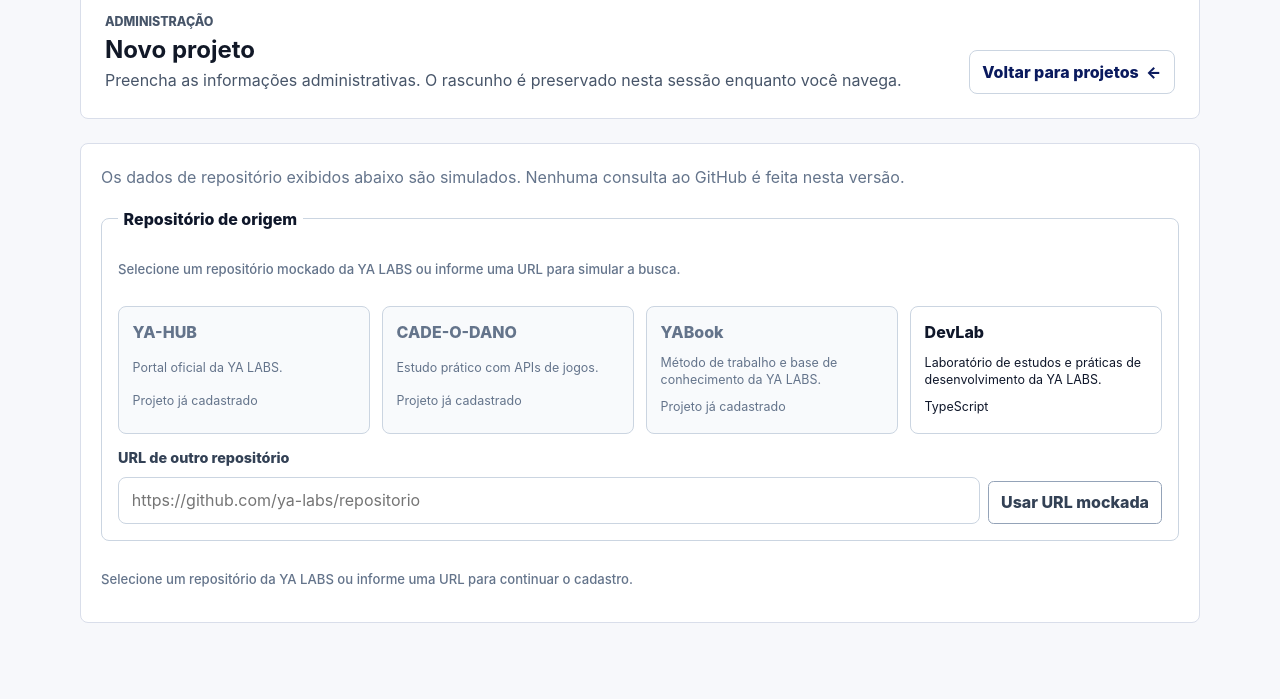
it: App › mantém rascunho do projeto ao voltar para a listagem sem salvar
Expected: the heading "Novo projeto" is shown, [105,35,255,64]
Click the button "DevLab": (1036, 370) [910,306,1162,434]
(page scrolled)
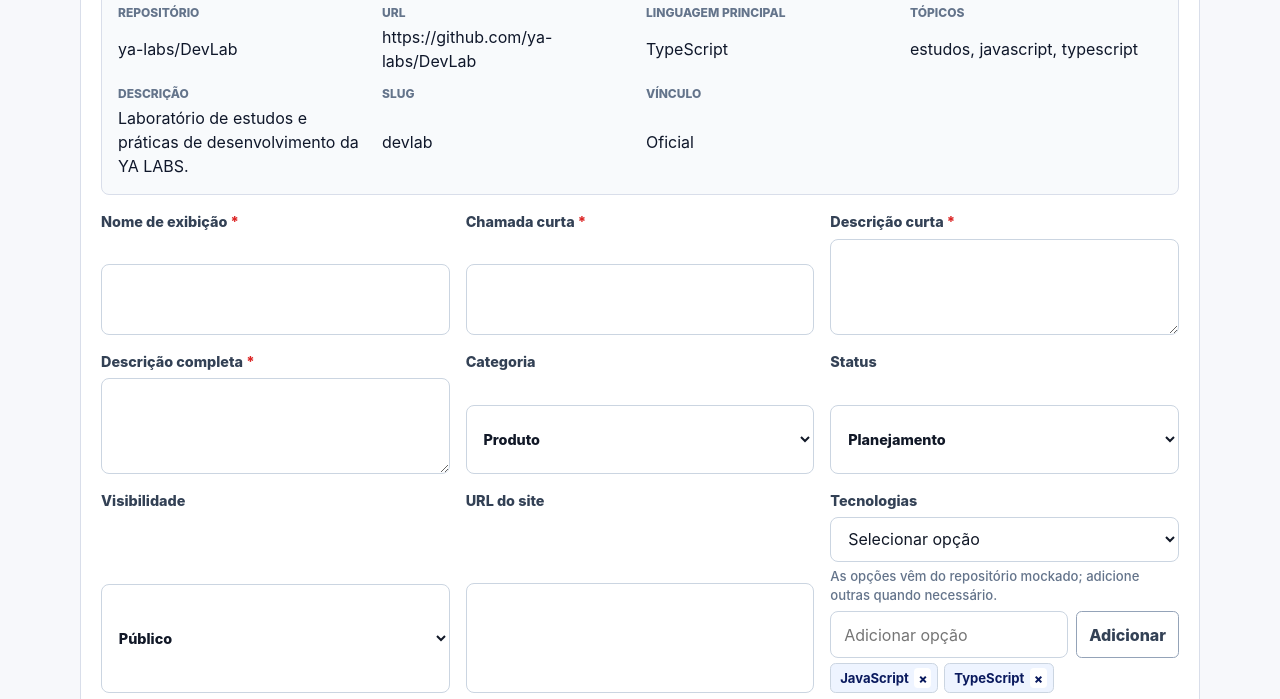
Now the dropdown labelled "Categoria" is shown, box [466,405,814,474]
In the field labelled "Nome de exibição": (275, 300) [101,264,450,335], type "Projeto em Rascunho"
(page scrolled)
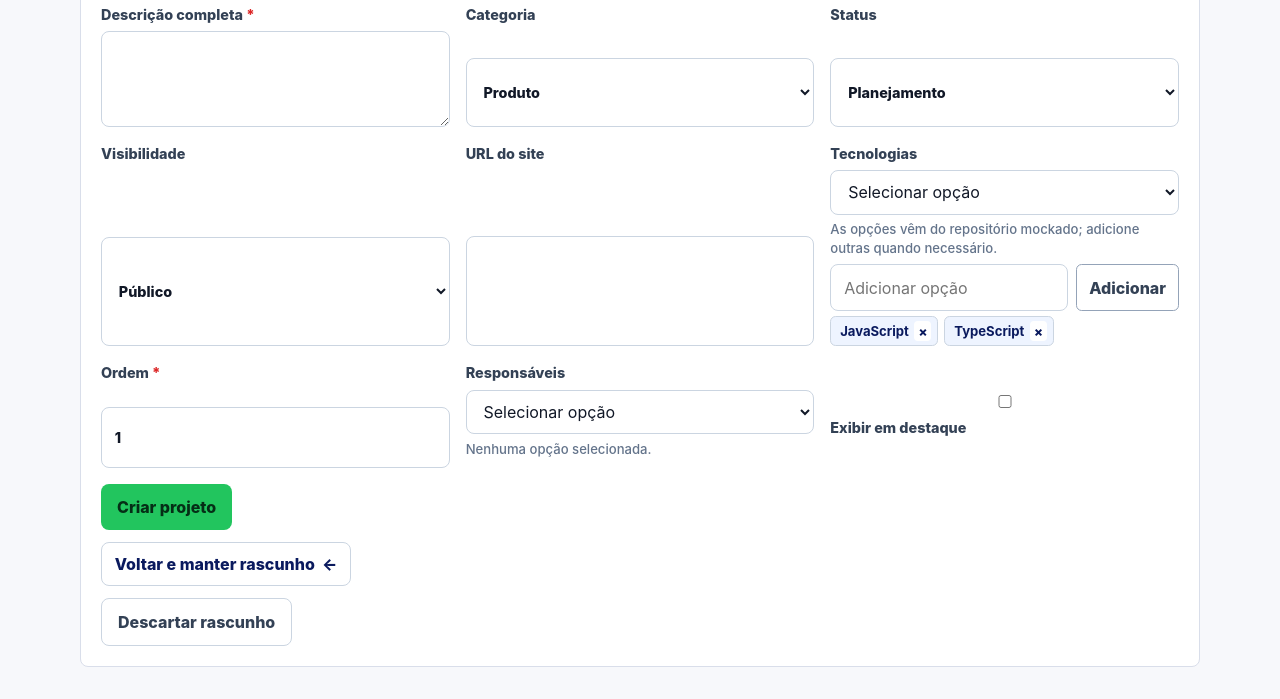
Click the link "Voltar e manter rascunho ←": (226, 564) [101,542,351,586]
(page scrolled)
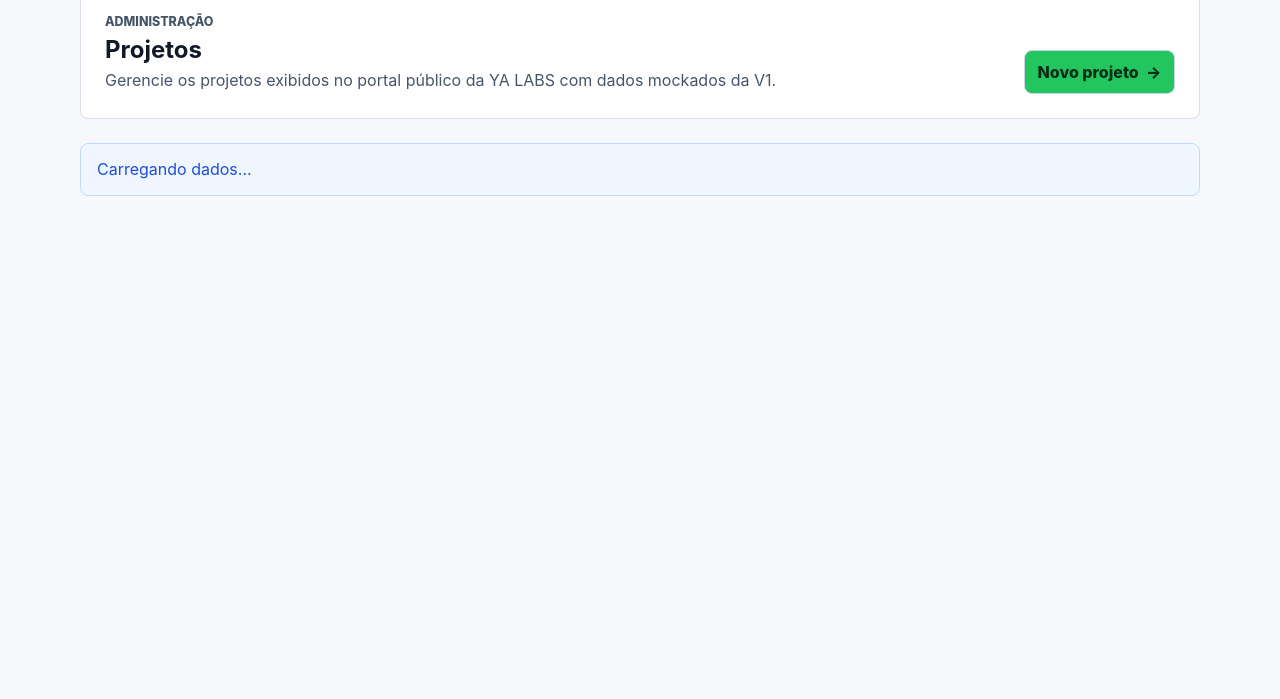
Now the heading "Projetos" is shown, box [105,35,202,64]
Click the link "Novo projeto →": (1099, 72) [1024,50,1175,94]
(page scrolled)
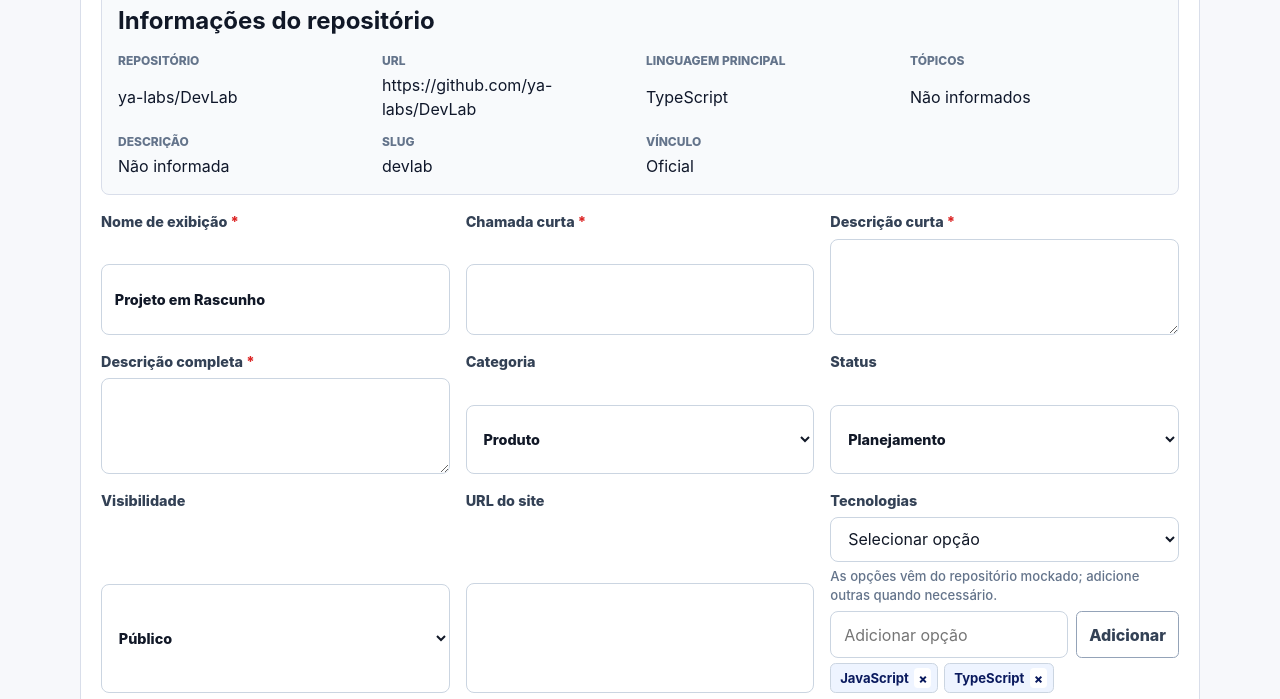
Now the field labelled "Nome de exibição" holds "Projeto em Rascunho", box [101,264,450,335]
